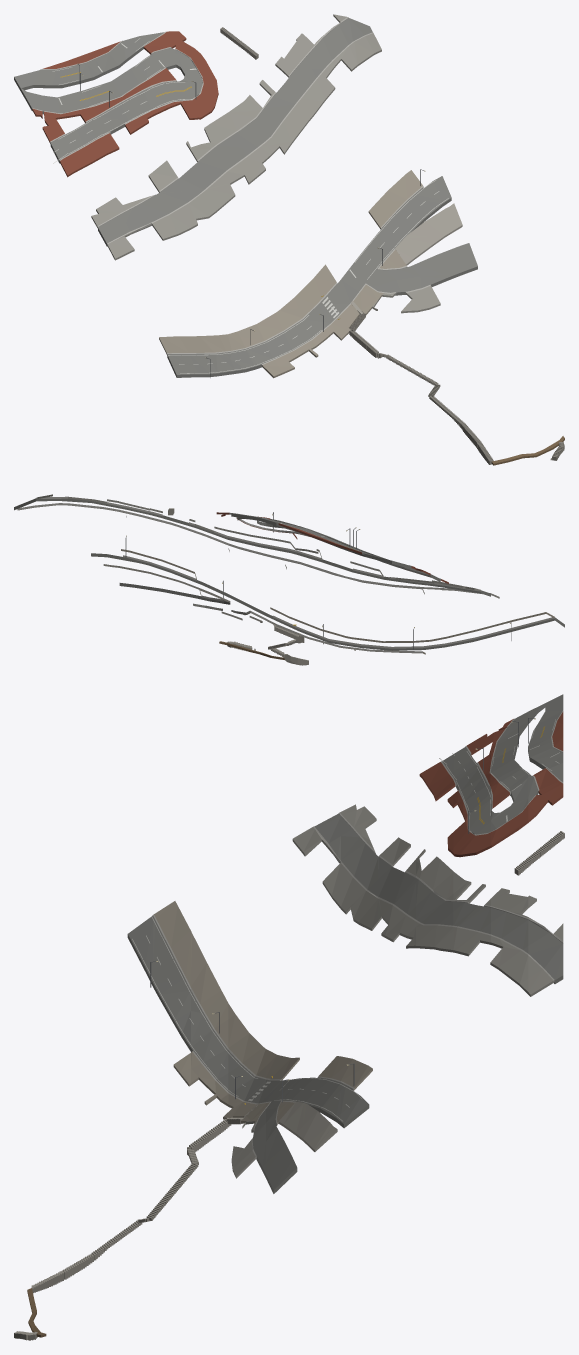
Rendered from 18-218867-118955.52dad0df.glb.
3 renders of one model, top to bottom at view 1: azimuth 30°, elevation 25°; view 2: azimuth 150°, elevation 25°; view 3: azimuth 270°, elevation 25°, orthographic. The views are drawn at different scales.
Bounding box in the file's own units: 150 × 129 × 147.
